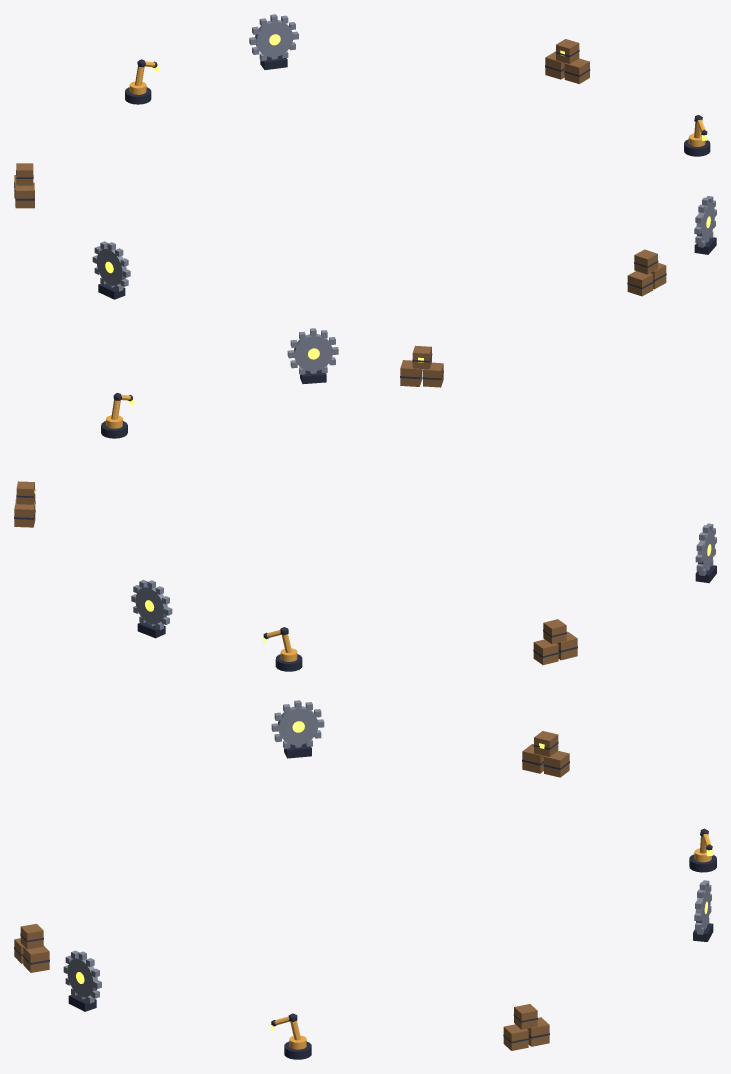
The picture shows the model from 3 angles, top to bottom: view 1: azimuth 30°, elevation 25°; view 2: azimuth 150°, elevation 25°; view 3: azimuth 270°, elevation 25°; orthographic projection. The views are drawn at different scales.
Visible parts, largest first — view 1: nexo_decor_taller.lod0; view 2: nexo_decor_taller.lod0; view 3: nexo_decor_taller.lod0.
Boxes of the visible parts, bbox=[...] form: nexo_decor_taller.lod0: bbox=[14, 14, 716, 299]; nexo_decor_taller.lod0: bbox=[14, 328, 716, 671]; nexo_decor_taller.lod0: bbox=[14, 700, 716, 1059].
Bounding box in the file's own units: 28.94 × 2.29 × 27.76.
